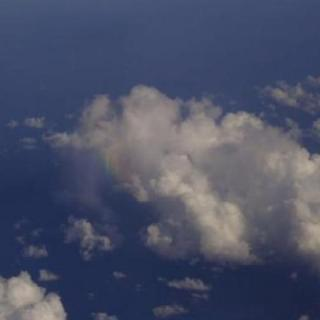Cumulus: (0, 70, 320, 320)
